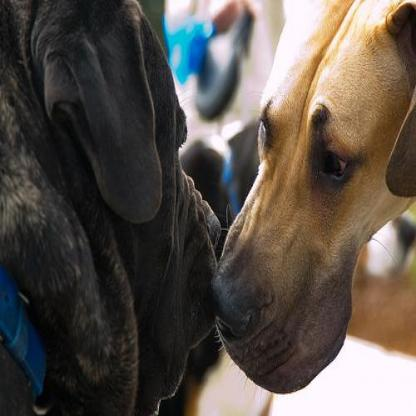Great_Dane: (1, 0, 221, 414), (209, 0, 414, 396)
